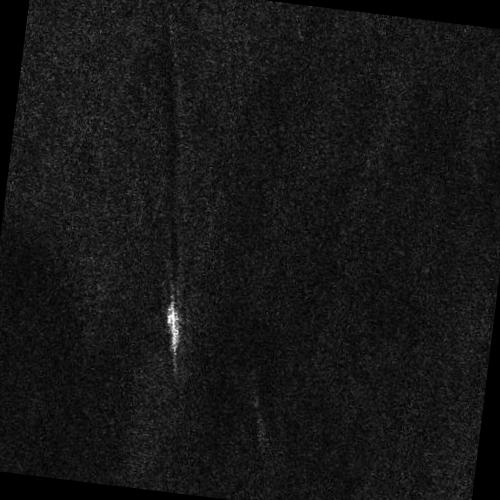ship: (167, 292, 180, 361)
